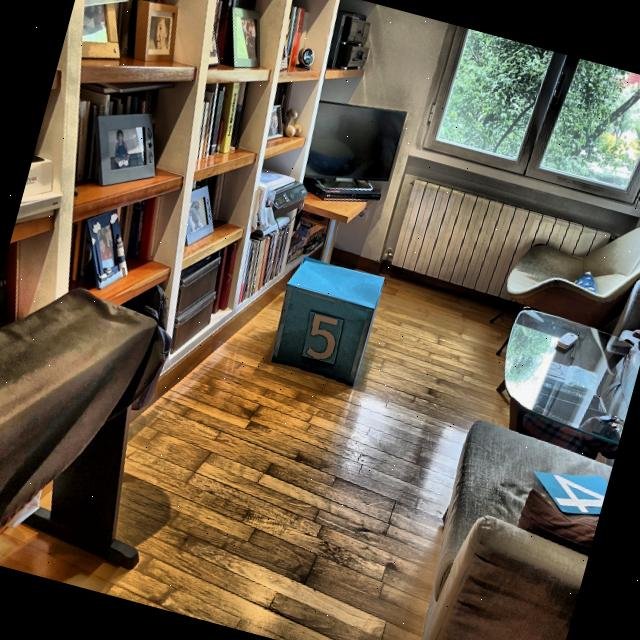blue box: (264, 251, 388, 390)
five: (302, 312, 344, 364)
